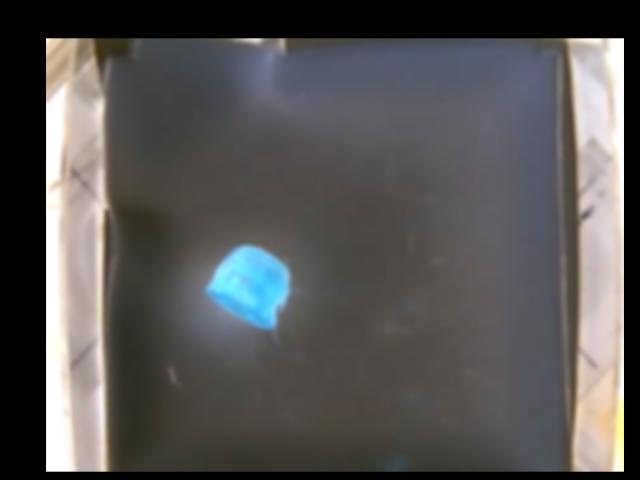Carrot: (206, 245, 291, 324)
